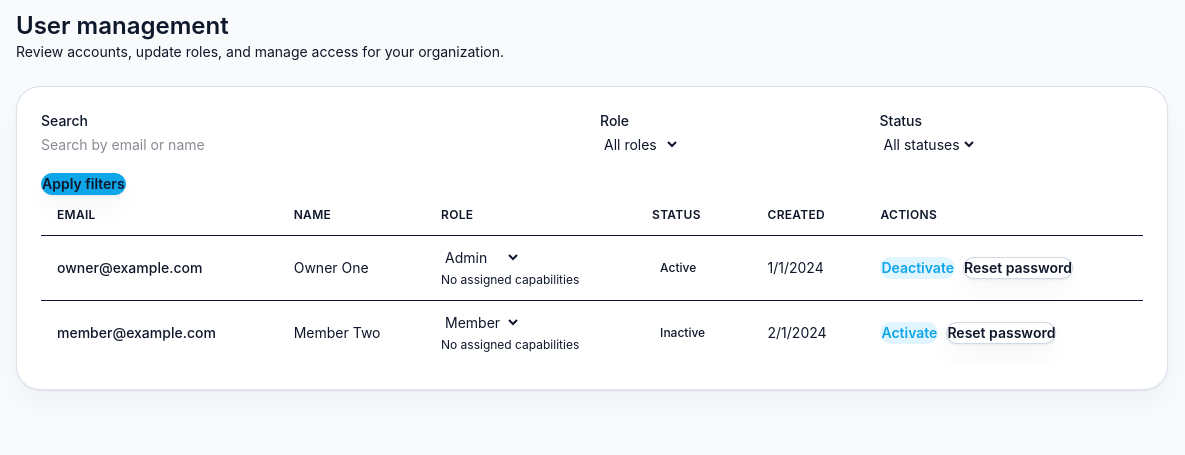
Test case: admin users page › toggles activation state of a user
The image size is (1185, 455).
Click the button "Activate".
click(909, 333)  # box [880, 322, 938, 344]
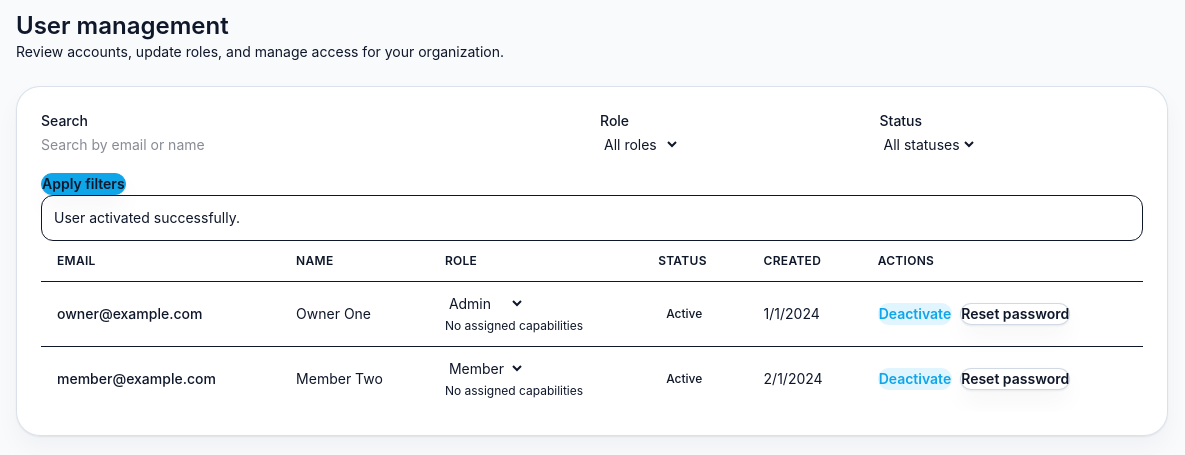
Now the message shows "activated successfully", box [54, 209, 240, 226]
